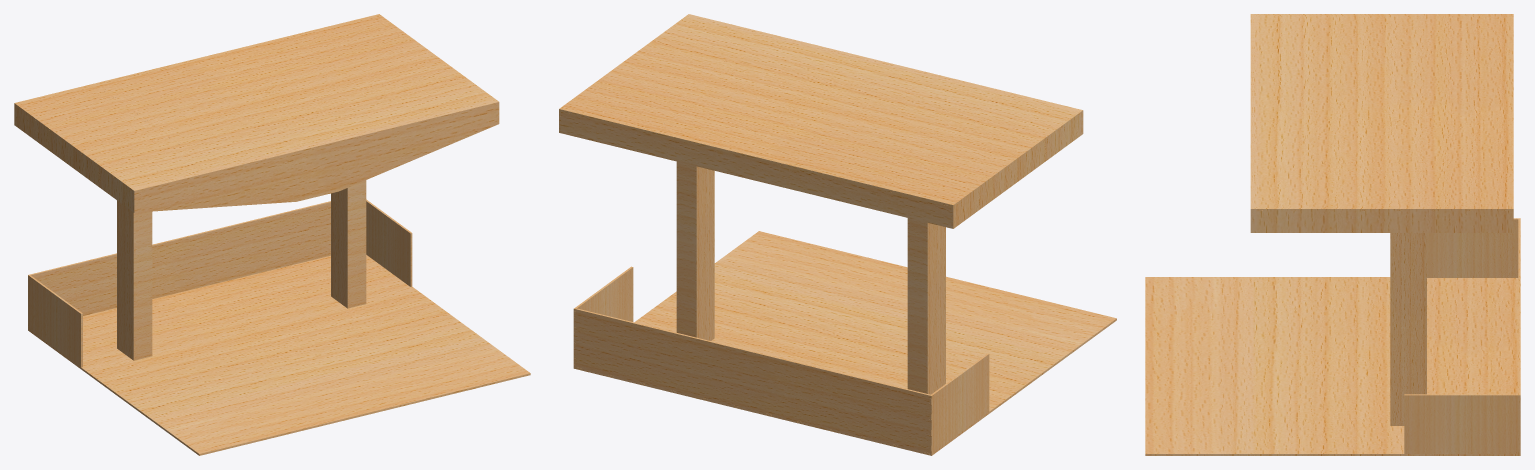
The model's file is charging-area.gltf.
3 views of the same model, side by side, from view 1: azimuth 30°, elevation 25°; view 2: azimuth 150°, elevation 25°; view 3: azimuth 270°, elevation 25° (orthographic). The views are drawn at different scales.
Visible parts, largest first — view 1: Part1; view 2: Part1; view 3: Part1.
Boxes of the visible parts, x1,y1,x2,y2 form: Part1: (14,14,530,455); Part1: (559,14,1116,455); Part1: (1145,14,1520,455).
Size of the model in its own units: 0.606 by 0.371 by 0.493.
Materials: 1 (1 with a texture image).
